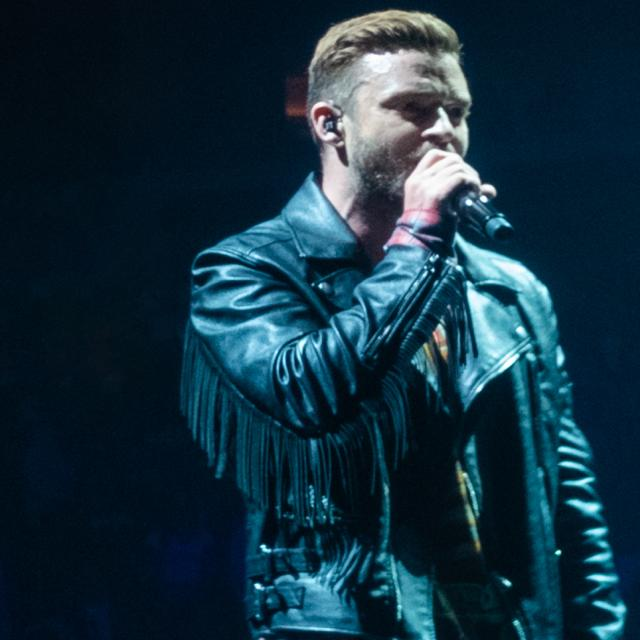human: (184, 7, 634, 640)
